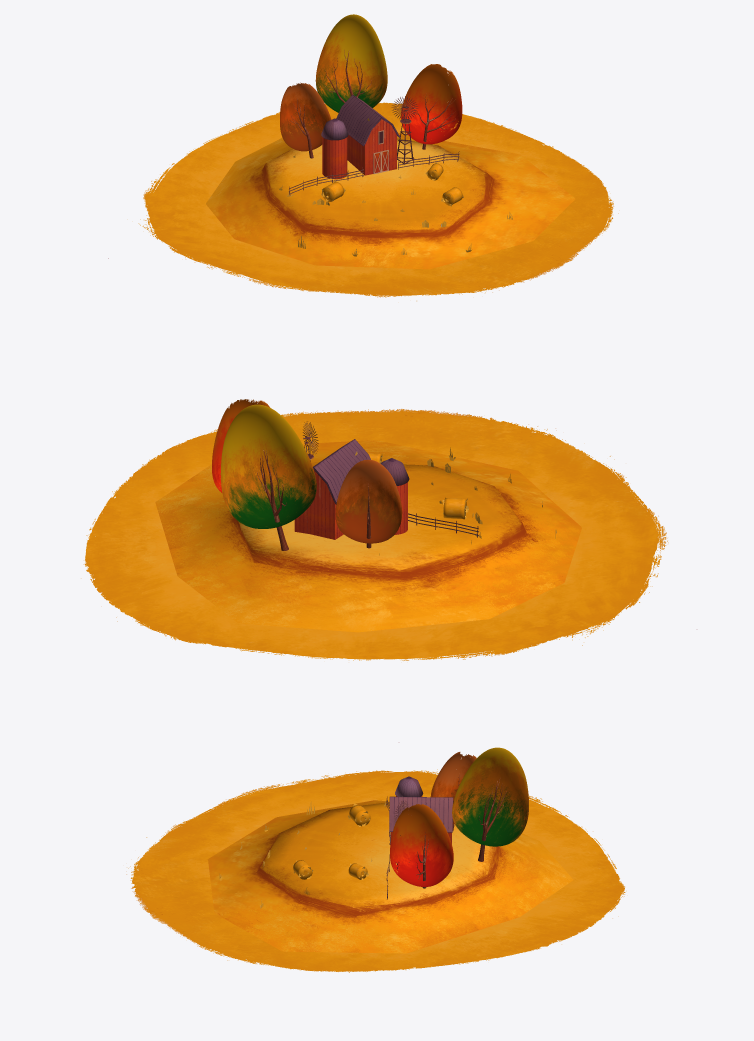
File: farm.glb
3 views of the same model, one above another, from view 1: azimuth 30°, elevation 25°; view 2: azimuth 150°, elevation 25°; view 3: azimuth 270°, elevation 25° (orthographic). The views are drawn at different scales.
Parts seen in each view (by area): view 1: Plane, Cylinder.008, Cylinder.011, Cube.004, Cube.005, Cylinder.021, Cylinder.001, Cylinder.004, Cube.037; view 2: Plane, Cylinder.008, Cube.005, Cube.004, Cylinder.011, Cylinder.021, Cylinder.001; view 3: Plane, Cylinder.008, Cylinder.011, Cube.004, Cube.005, Cylinder.001.
Boxes of the visible parts, box(x1,y1,x2,y2) form: Plane: box(108, 102, 618, 301); Cylinder.008: box(315, 14, 387, 112); Cylinder.011: box(400, 64, 462, 149); Cube.004: box(336, 94, 400, 175); Cube.005: box(280, 82, 331, 158); Cylinder.021: box(321, 118, 348, 179); Cylinder.001: box(321, 162, 463, 206); Cylinder.004: box(391, 96, 417, 164); Cube.037: box(289, 151, 459, 195); Plane: box(81, 408, 668, 660); Cylinder.008: box(220, 404, 316, 550); Cube.005: box(335, 459, 402, 548); Cube.004: box(294, 439, 370, 539); Cylinder.011: box(212, 399, 269, 492); Cylinder.021: box(380, 458, 409, 534); Cylinder.001: box(367, 453, 468, 519); Plane: box(126, 769, 626, 972); Cylinder.008: box(452, 747, 528, 861); Cylinder.011: box(390, 804, 453, 888); Cube.004: box(389, 796, 453, 863); Cube.005: box(430, 752, 476, 830); Cylinder.001: box(293, 803, 370, 879).
Bounding box in the file's own units: 13.17 × 2.85 × 13.17.
Materials: 10 (10 with a texture image).
